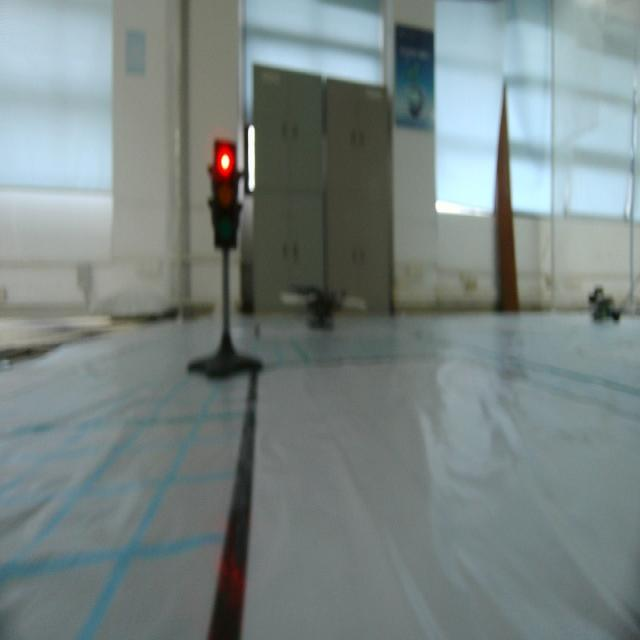red: (203, 132, 244, 252)
